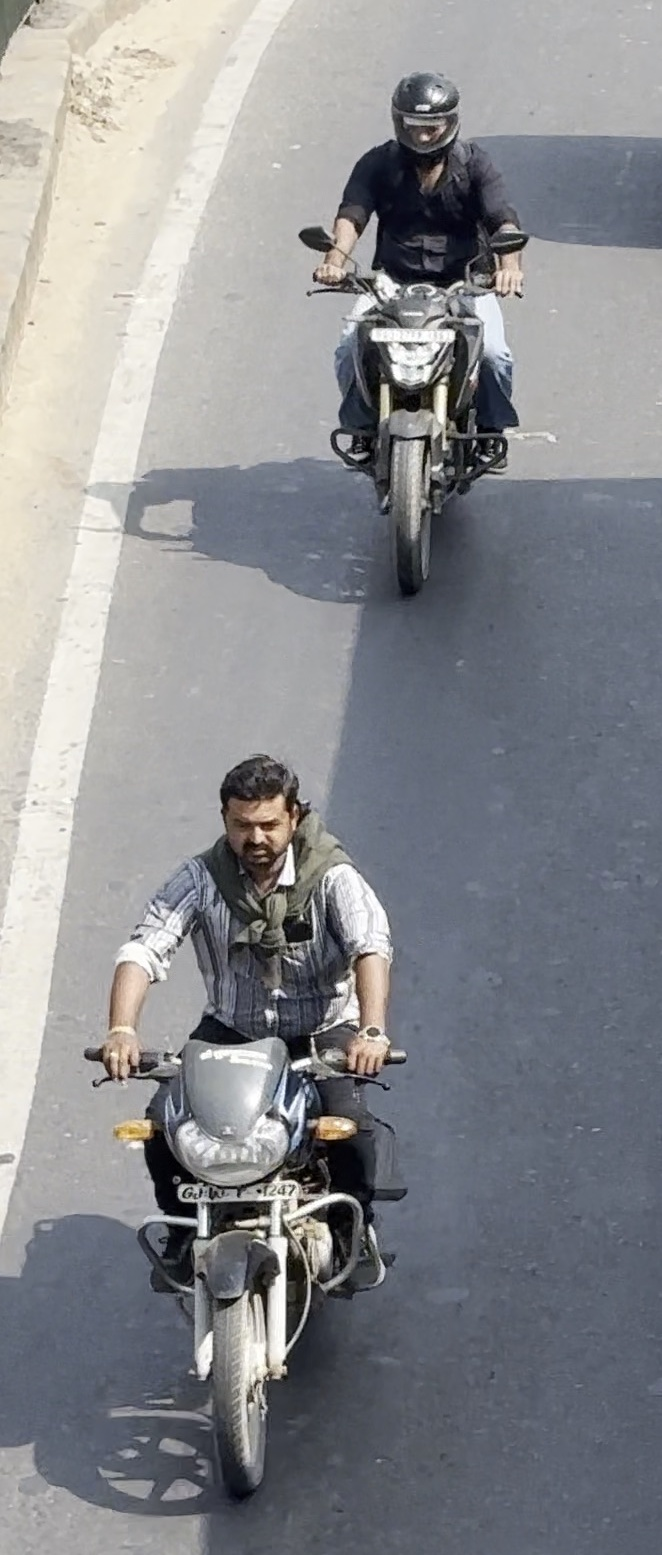BikeWithRider: (73, 742, 423, 1509), (288, 60, 548, 607)
Helmet: (376, 61, 475, 167)
NoHelmet: (201, 745, 317, 881)
